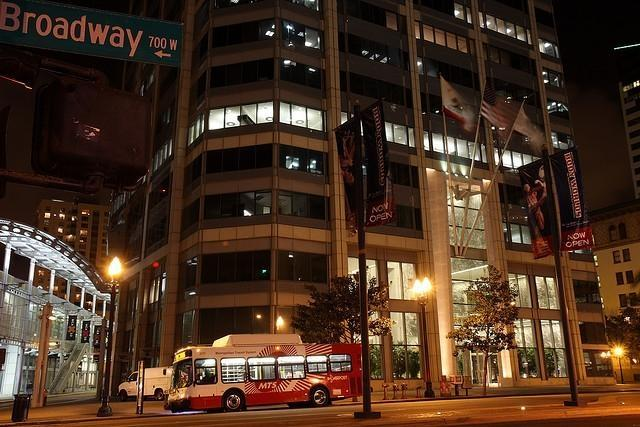bus: (171, 333, 359, 413)
truck: (118, 365, 174, 402)
